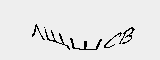В: (117, 26, 135, 46)
Л: (29, 24, 44, 42)
С: (104, 28, 123, 51)
Ш: (71, 37, 103, 52)
Щ: (44, 29, 70, 53)
